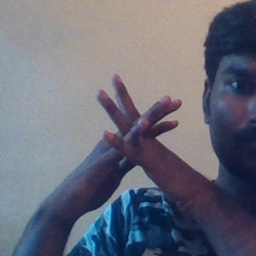W: (87, 70, 188, 190)
